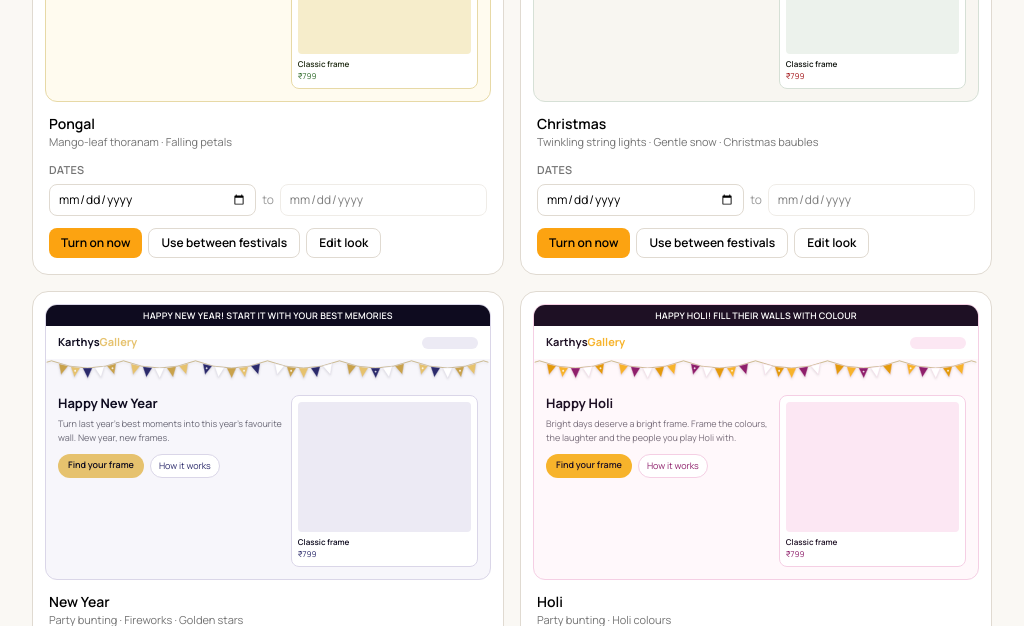
Test case: admin festival themes › warns when edited colours make text hard to read, and adds a custom theme
The image size is (1024, 626).
(page scrolled)
Click the 1st button "Edit look": {"x": 344, "y": 243} [306, 228, 381, 258]
(page scrolled)
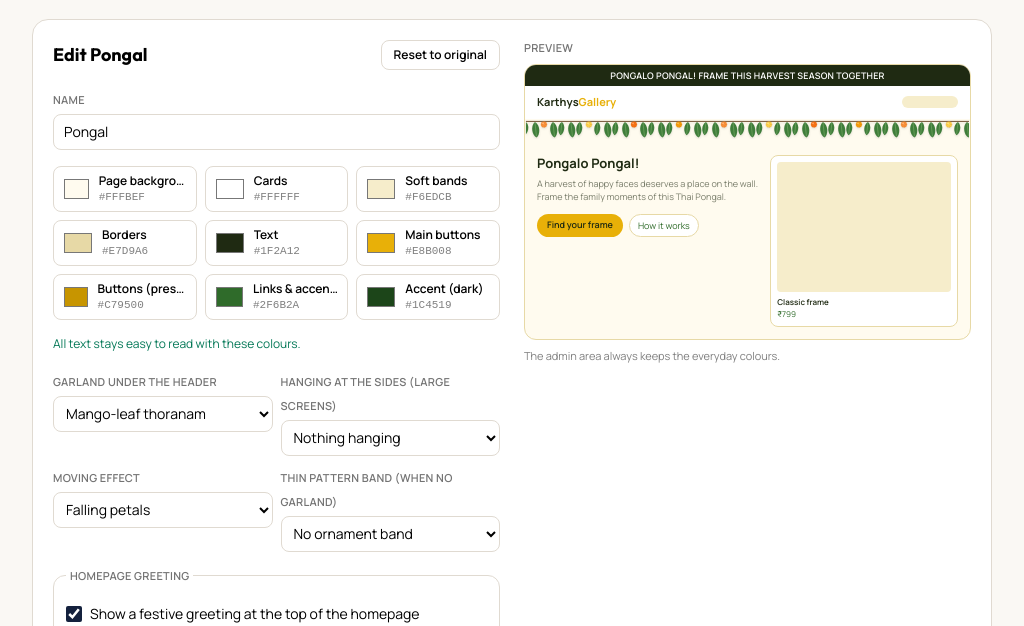
Check: the text "All text stays easy to read with these colours." is shown, box [53, 334, 301, 352]
In the colour field labelled "Main buttons #E8B008": {"x": 381, "y": 242} [365, 228, 397, 256], type "#111111"
(page scrolled)
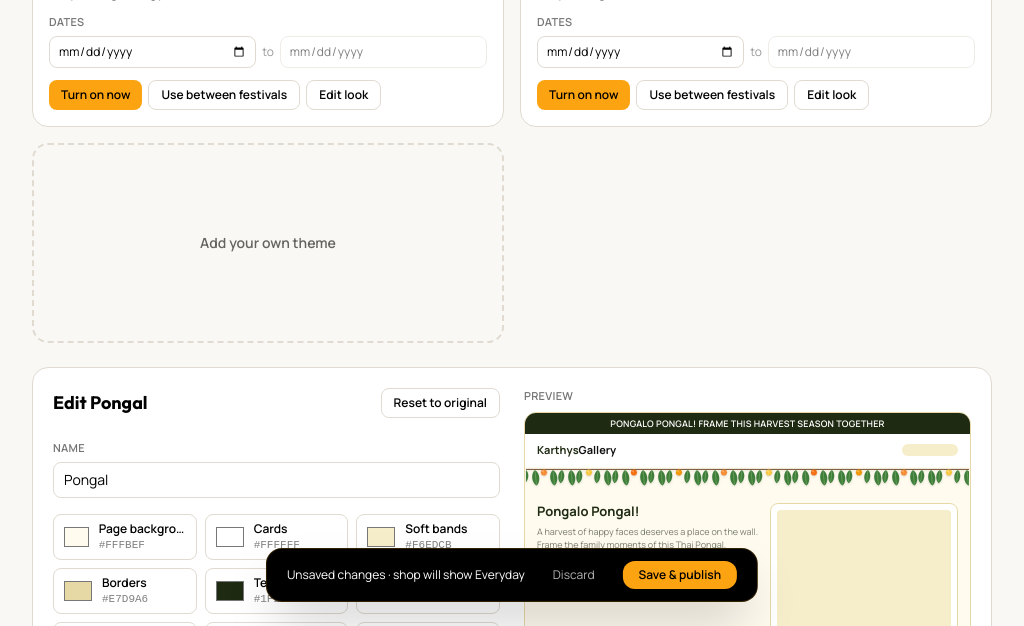
Click the button "Add your own theme": {"x": 268, "y": 242} [32, 142, 504, 342]
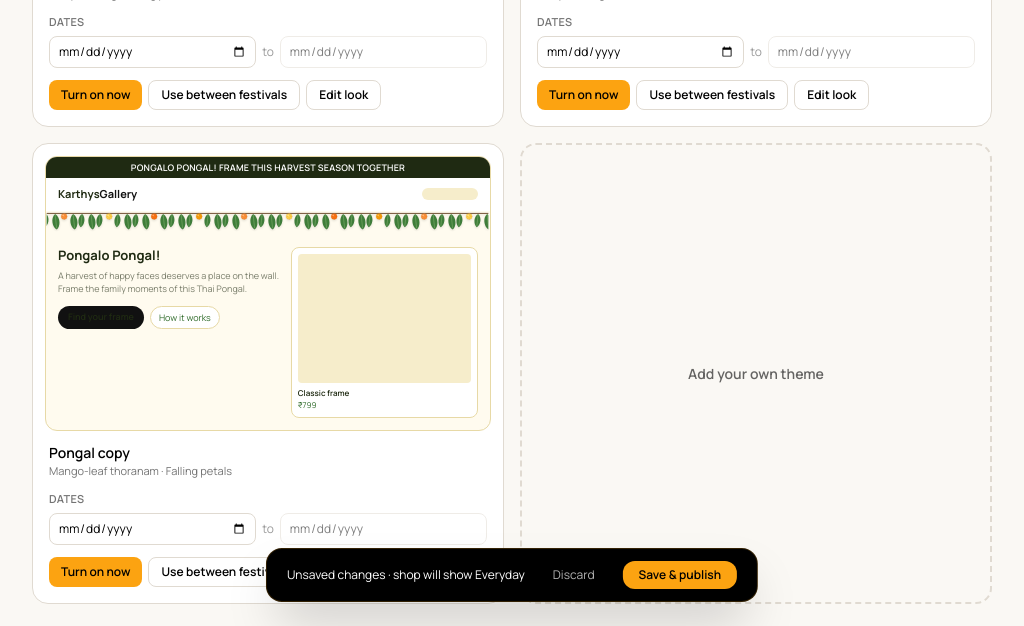
Check: the heading "Pongal copy" is shown, box [49, 444, 130, 462]
